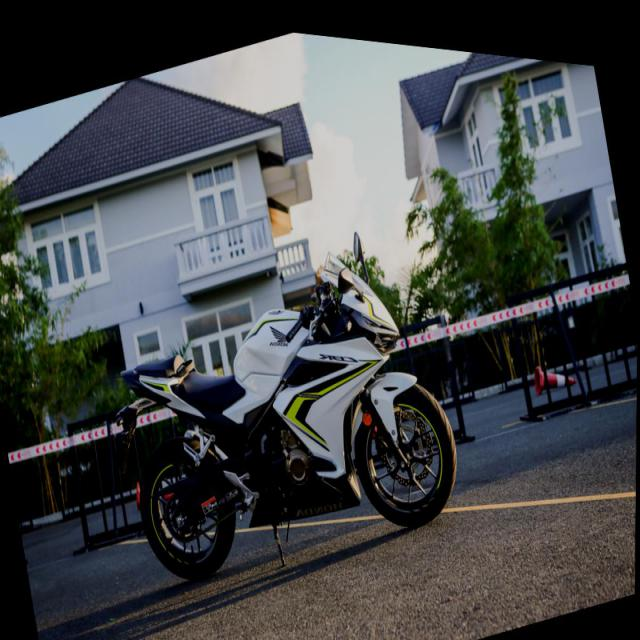CBR500R: (89, 176, 471, 632)
